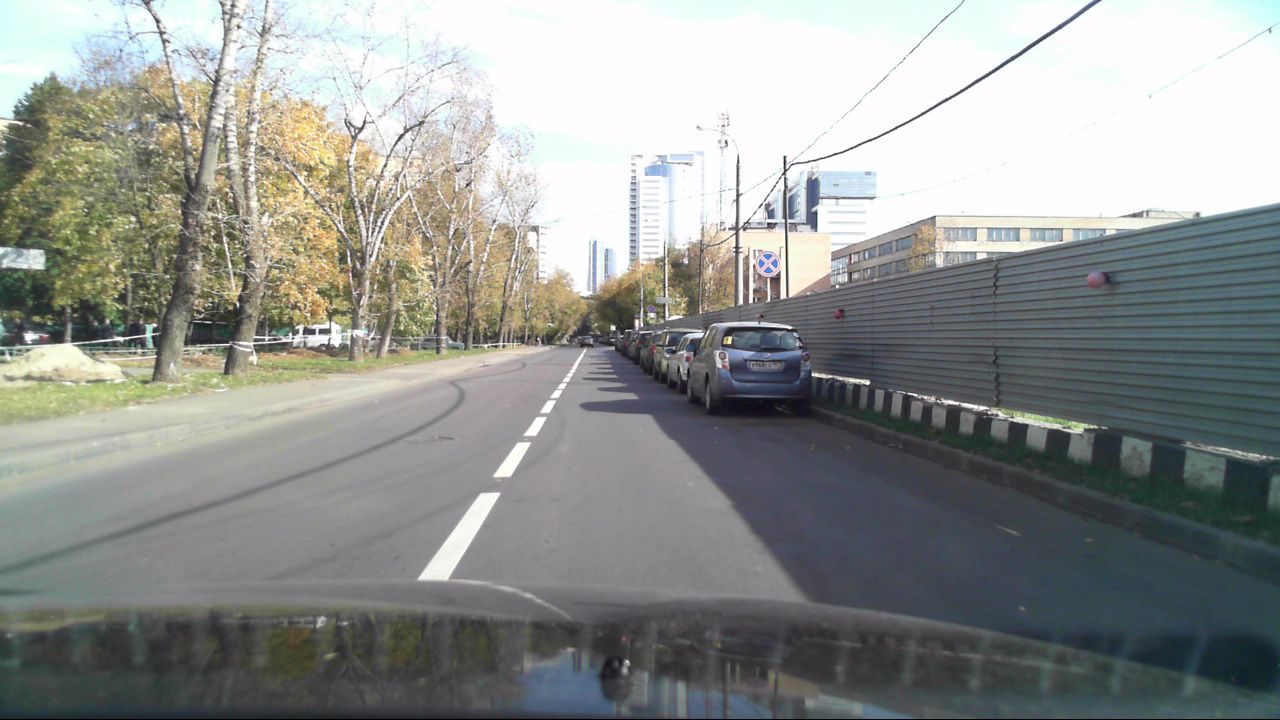No Parking: (753, 249, 780, 279)
